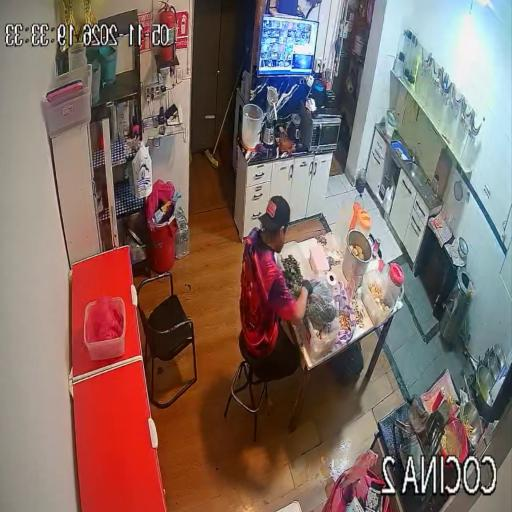Balde: (242, 103, 264, 149)
Envase Ketchup: (432, 387, 445, 410)
Envase Llajua: (446, 395, 456, 409)
Jarra1: (386, 262, 404, 301)
Jarra2: (355, 210, 371, 235)
Jarra3: (335, 194, 354, 252)
JarraLicuadora: (432, 174, 439, 195)
Microondas: (301, 106, 342, 152)
Persona1: (239, 196, 312, 381)
Taper: (277, 241, 311, 286)
Taper3: (361, 271, 394, 325), (304, 317, 339, 357)
Taper4: (83, 296, 126, 360)
olla1: (343, 229, 371, 287)
